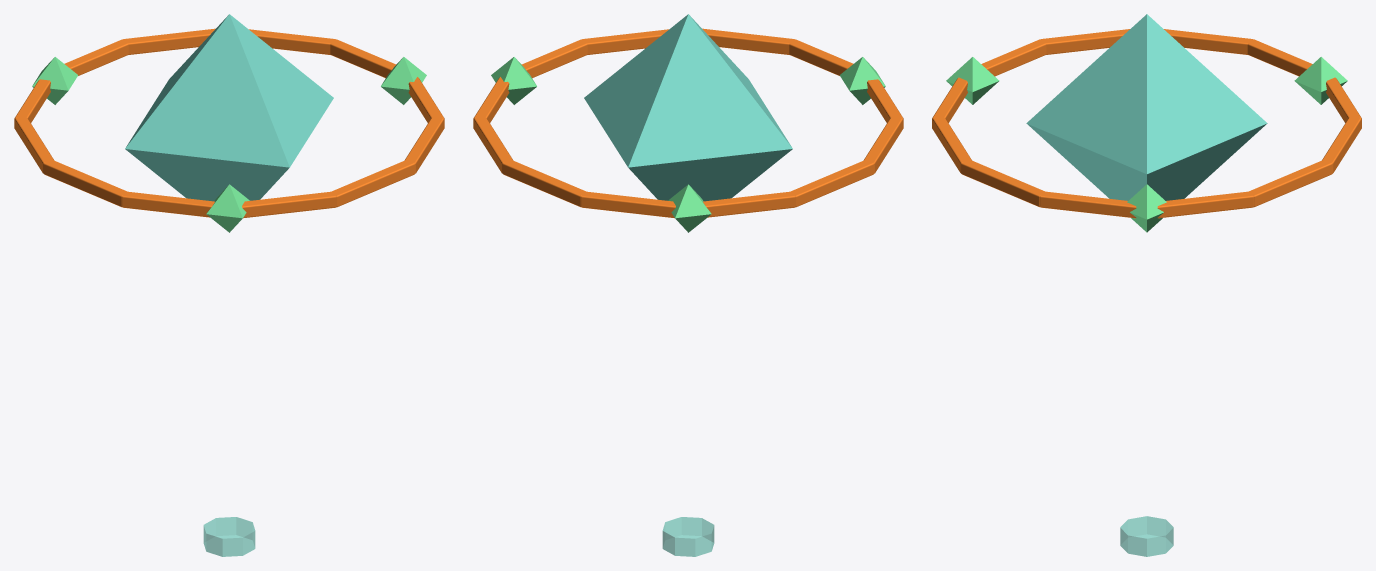
Rendered from mend_crystal.glb.
The picture shows the model from 3 angles, left to right: view 1: azimuth 30°, elevation 25°; view 2: azimuth 150°, elevation 25°; view 3: azimuth 270°, elevation 25°; orthographic projection.
Visible parts, largest first — view 1: crystal, shadow_marker, orbit_3, orbit_4, orbit_5, orbit_2, orbit_9, orbit_10, spark_1, orbit_11, spark_0, orbit_8 (+5 smaller); view 2: crystal, shadow_marker, orbit_8, orbit_7, orbit_6, orbit_9, orbit_2, orbit_1, spark_2, orbit_0, spark_0, orbit_3 (+5 smaller); view 3: crystal, shadow_marker, orbit_0, orbit_11, orbit_10, orbit_1, orbit_6, orbit_5, spark_1, spark_2, orbit_4, orbit_7 (+5 smaller).
Boxes of the visible parts, bbox=[...] form: crystal: bbox=[125, 14, 333, 232]; shadow_marker: bbox=[203, 517, 255, 556]; orbit_3: bbox=[242, 191, 336, 218]; orbit_4: bbox=[122, 191, 214, 217]; orbit_5: bbox=[43, 160, 128, 207]; orbit_2: bbox=[332, 160, 415, 207]; orbit_9: bbox=[123, 28, 215, 54]; orbit_10: bbox=[249, 29, 335, 54]; spark_1: bbox=[206, 184, 249, 232]; orbit_11: bbox=[330, 39, 396, 78]; spark_0: bbox=[381, 57, 426, 104]; orbit_8: bbox=[64, 39, 128, 75]; crystal: bbox=[584, 14, 792, 232]; shadow_marker: bbox=[662, 517, 714, 556]; orbit_8: bbox=[581, 191, 675, 218]; orbit_7: bbox=[703, 191, 795, 217]; orbit_6: bbox=[789, 160, 874, 207]; orbit_9: bbox=[502, 160, 585, 207]; orbit_2: bbox=[702, 28, 794, 54]; orbit_1: bbox=[582, 29, 668, 54]; spark_2: bbox=[668, 184, 711, 232]; orbit_0: bbox=[521, 39, 587, 78]; spark_0: bbox=[491, 57, 536, 104]; orbit_3: bbox=[789, 39, 853, 75]; crystal: bbox=[1026, 14, 1267, 226]; shadow_marker: bbox=[1120, 516, 1173, 556]; orbit_0: bbox=[1040, 191, 1136, 218]; orbit_11: bbox=[1157, 191, 1253, 218]; orbit_10: bbox=[1247, 160, 1332, 207]; orbit_1: bbox=[961, 160, 1044, 207]; orbit_6: bbox=[1164, 29, 1253, 54]; orbit_5: bbox=[1040, 29, 1129, 54]; spark_1: bbox=[946, 57, 999, 104]; spark_2: bbox=[1294, 57, 1347, 104]; orbit_4: bbox=[981, 39, 1046, 76]; orbit_7: bbox=[1247, 39, 1312, 76].
Size of the model in its own units: 0.6605 by 0.875 by 0.641.
